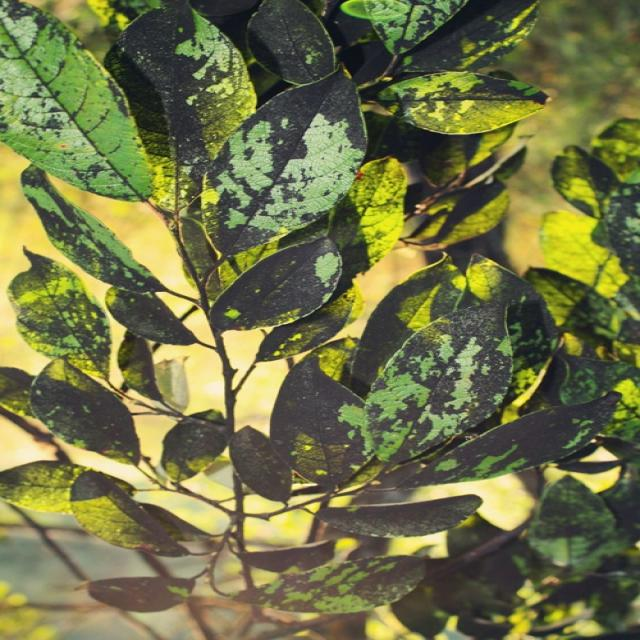Sooty Mold: (2, 1, 630, 626)
